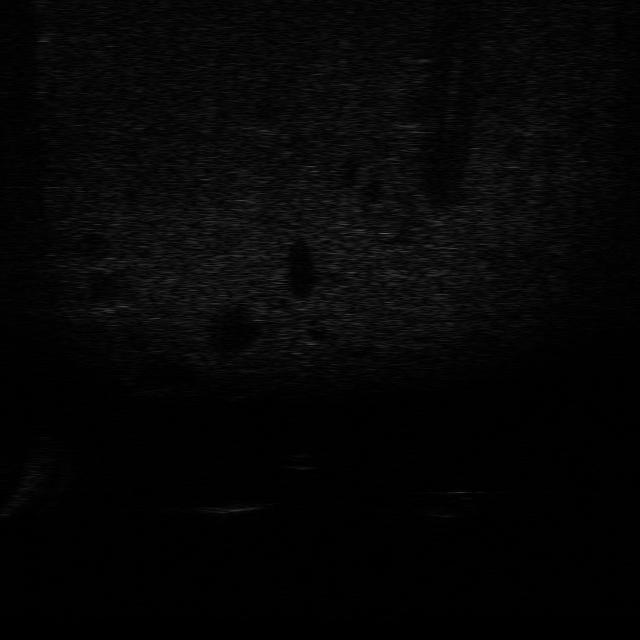ball: (281, 445, 325, 473)
square cage: (195, 491, 266, 522)
tyre: (420, 483, 488, 524)
